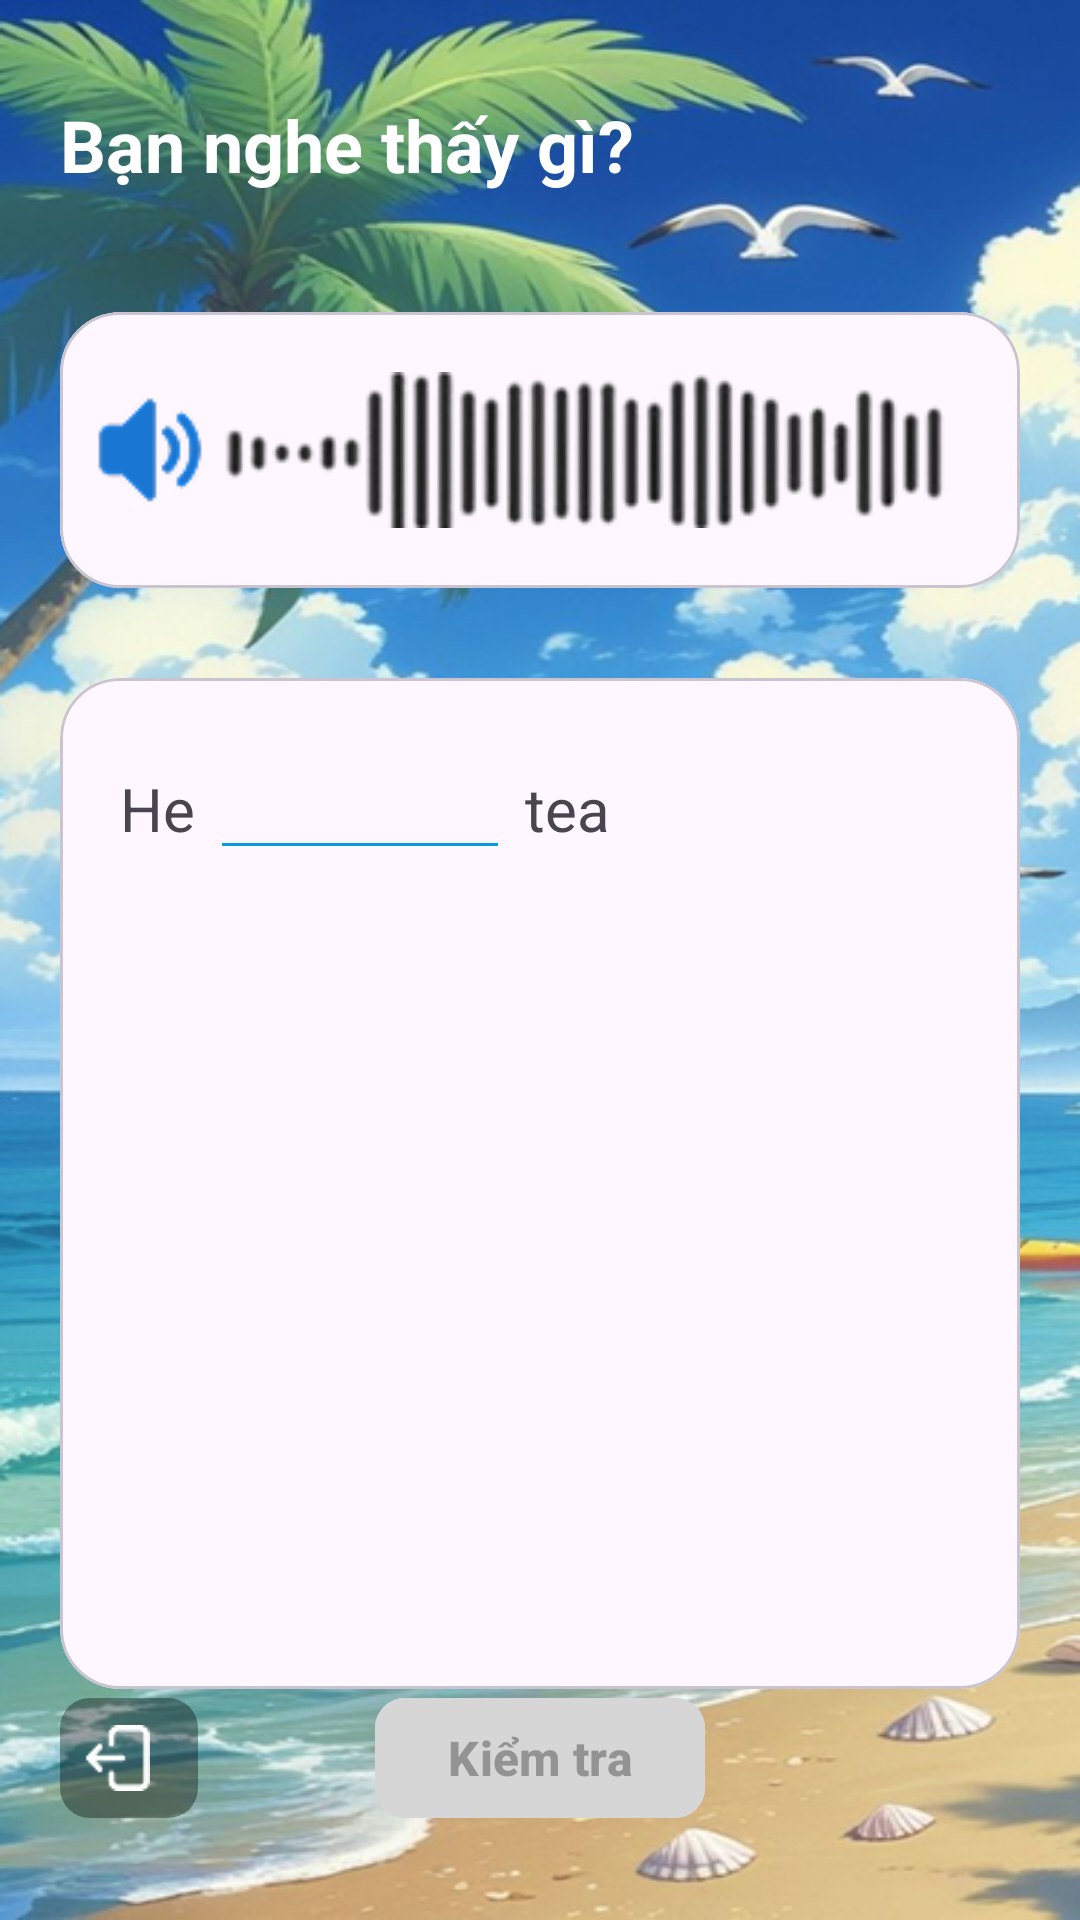

Point at icon controls on the screen. Image size 1080px×1920px, points as point (x, y).
volume: point (150, 450)
